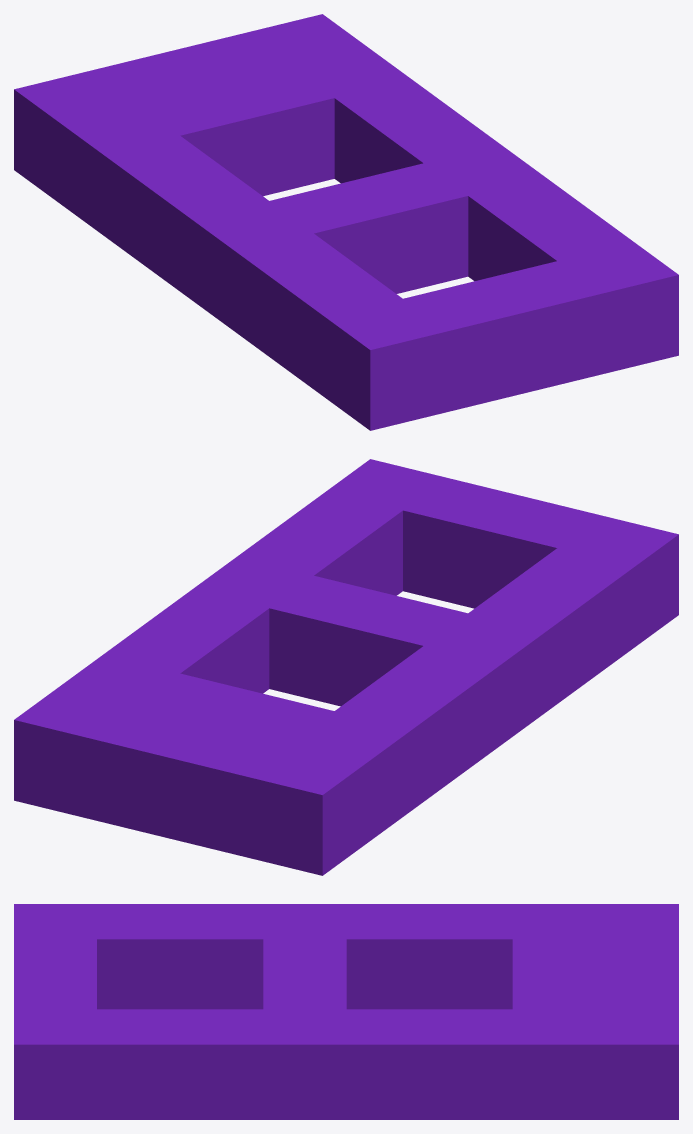
File: igloo.obj
3 views of the same model, one above another, from view 1: azimuth 30°, elevation 25°; view 2: azimuth 150°, elevation 25°; view 3: azimuth 270°, elevation 25° (orthographic). The views are drawn at different scales.
Visible parts, largest first — view 1: object_2, object_3, object_8, object_6, object_1, object_7, object_4, object_5; view 2: object_6, object_3, object_2, object_8, object_7, object_1, object_4, object_5; view 3: object_4, object_5, object_3, object_8, object_2, object_6, object_1, object_7.
Part boxes in pixels (x1,y1,x2,y2): object_2: (325,242,678,430); object_3: (192,144,544,332); object_8: (58,46,411,234); object_6: (14,14,366,202); object_1: (236,233,402,397); object_7: (103,136,268,300); object_4: (334,79,500,183); object_5: (468,177,633,281); object_6: (14,687,367,875); object_3: (192,557,545,745); object_2: (326,459,678,647); object_8: (59,654,411,842); object_7: (335,646,500,810); object_1: (468,548,634,712); object_4: (103,589,269,693); object_5: (237,491,402,595); object_4: (346,1009,512,1119); object_5: (97,1009,263,1119); object_3: (263,904,346,1119); object_8: (512,904,595,1119); object_2: (14,904,96,1119); object_6: (596,904,678,1119); object_1: (97,904,263,1009); object_7: (346,904,512,1009).
Bounding box in the file's own units: 0.8 × 0.2 × 1.6.
